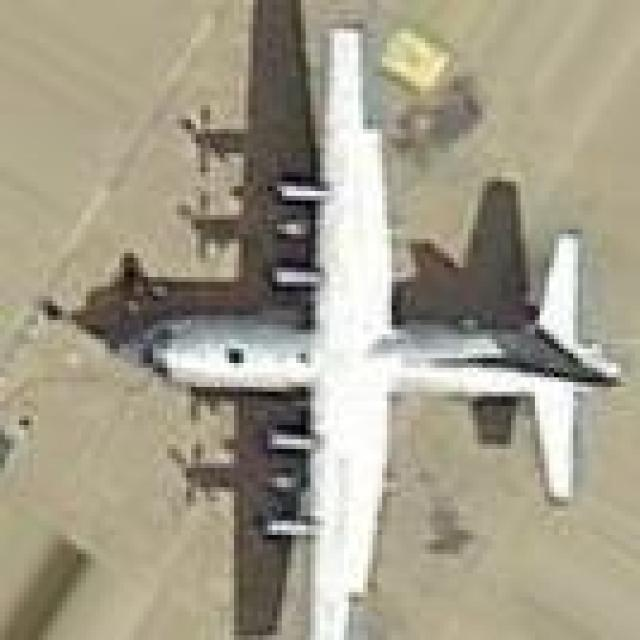C-130_TopDown: (81, 0, 622, 640)
